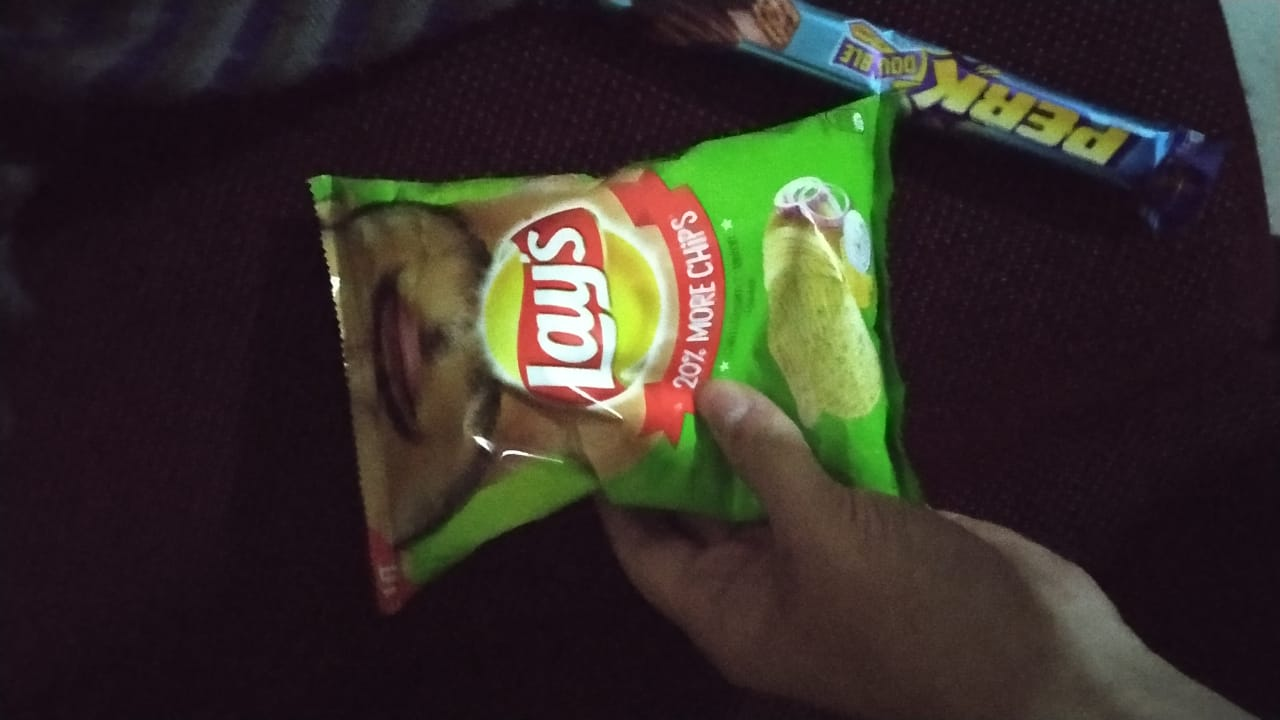lays chips: (298, 75, 912, 623)
perk: (701, 1, 1230, 213)
